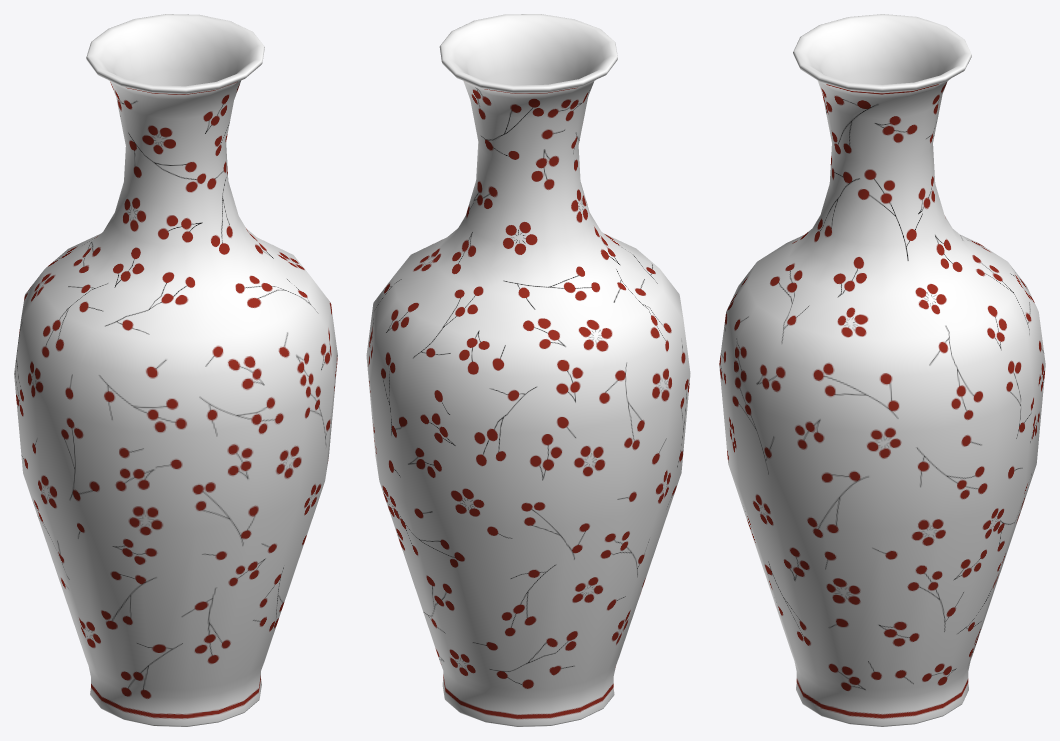
The model's file is floral_vase.glb.
3 renders of one model, left to right at view 1: azimuth 30°, elevation 25°; view 2: azimuth 150°, elevation 25°; view 3: azimuth 270°, elevation 25°, orthographic.
Visible parts, largest first — view 1: #VAS0001_Vase; view 2: #VAS0001_Vase; view 3: #VAS0001_Vase.
Part boxes in pixels (left/top/right/bottom): #VAS0001_Vase: left=14, top=14, right=337, bottom=726; #VAS0001_Vase: left=366, top=14, right=690, bottom=726; #VAS0001_Vase: left=719, top=14, right=1045, bottom=726.
Size of the model in its own units: 0.1385 by 0.3001 by 0.1385.
Materials: 1 (1 with a texture image).
